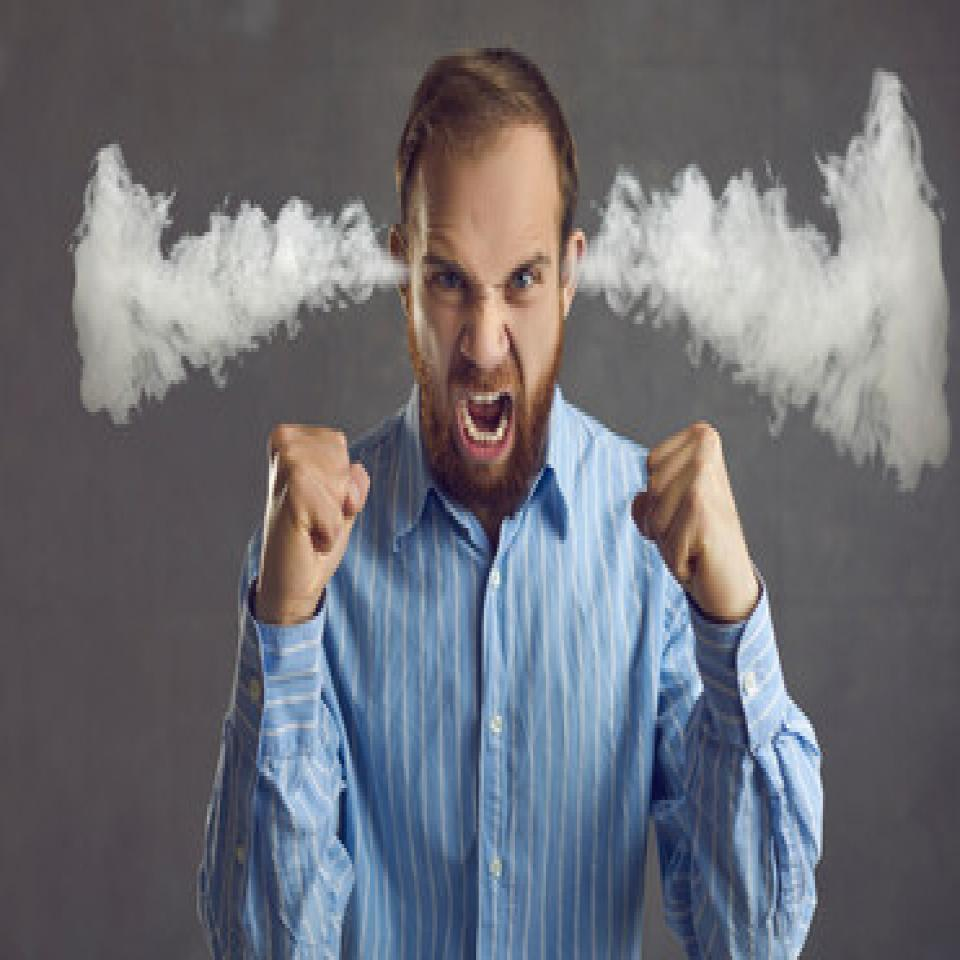Anger: (416, 155, 570, 467)
